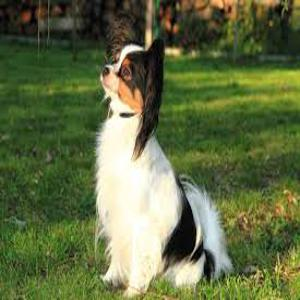yell: (94, 36, 235, 299)
